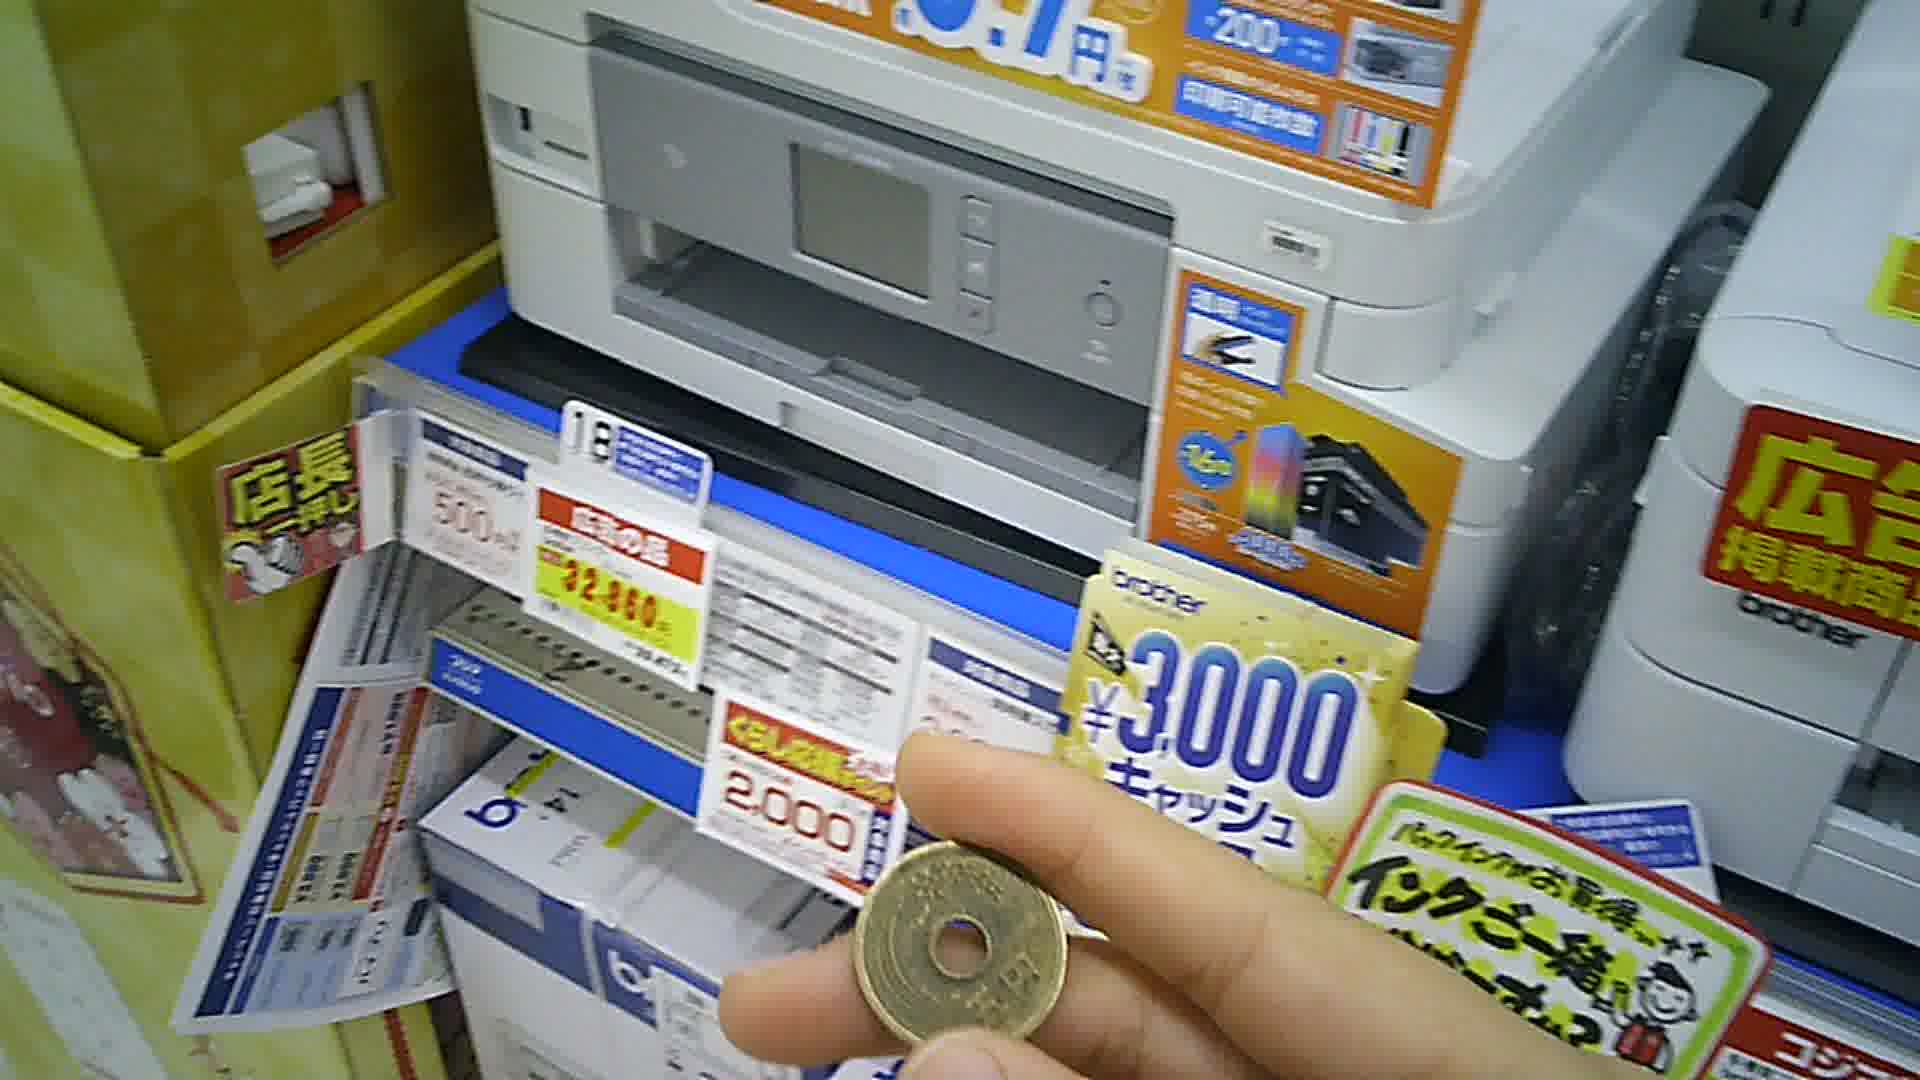5 Yen: (855, 837, 1072, 1056)
